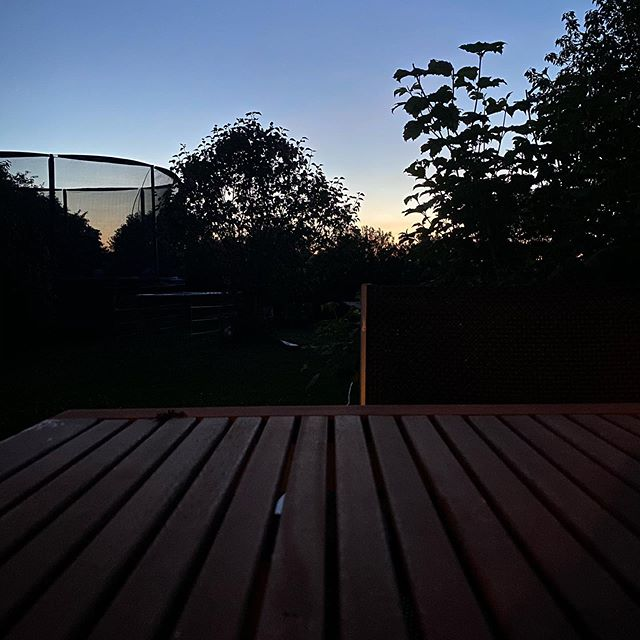sky: (6, 1, 519, 194)
tree: (410, 55, 640, 395), (126, 100, 362, 417)
